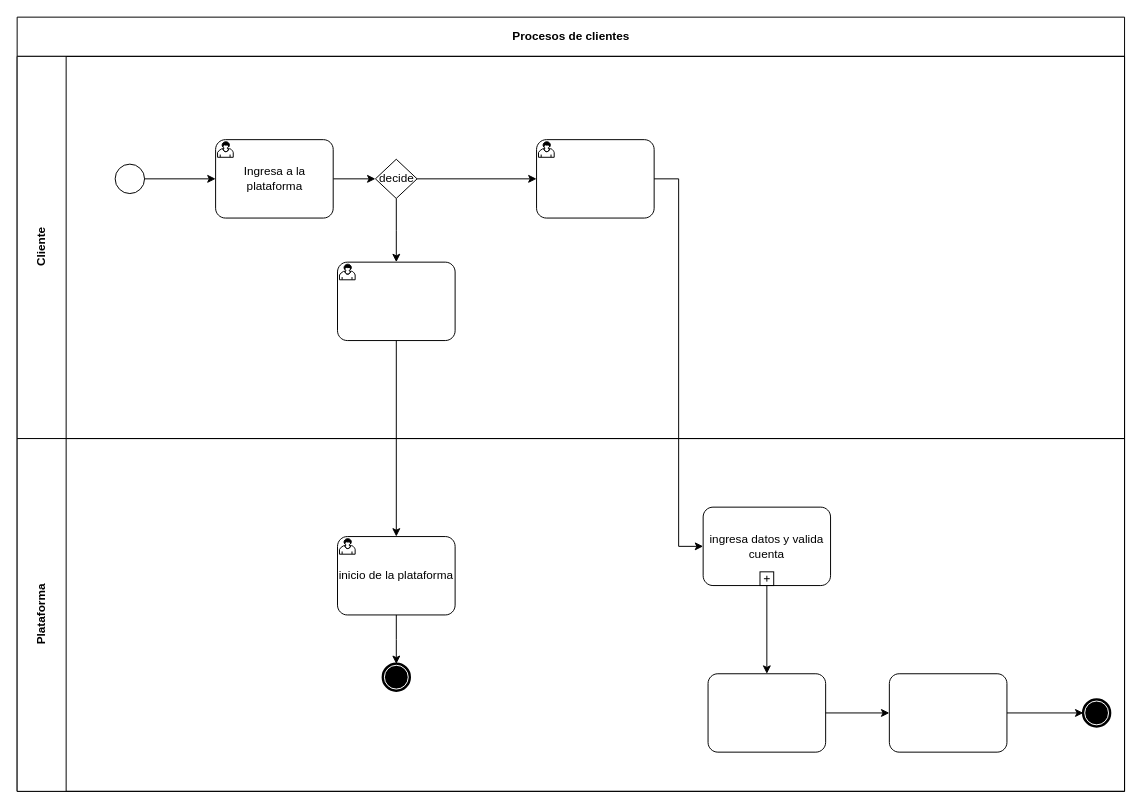
This 1142x809 diagram has some shape labels left out. The centre of each missing label's shape, as x and y in pixels:
Crear cuenta nueva: pixel 595 178
Inicio de la plataforma(menu): pixel 766 712
Login: pixel 396 301
selecciona proceso a realizar: pixel 947 712
